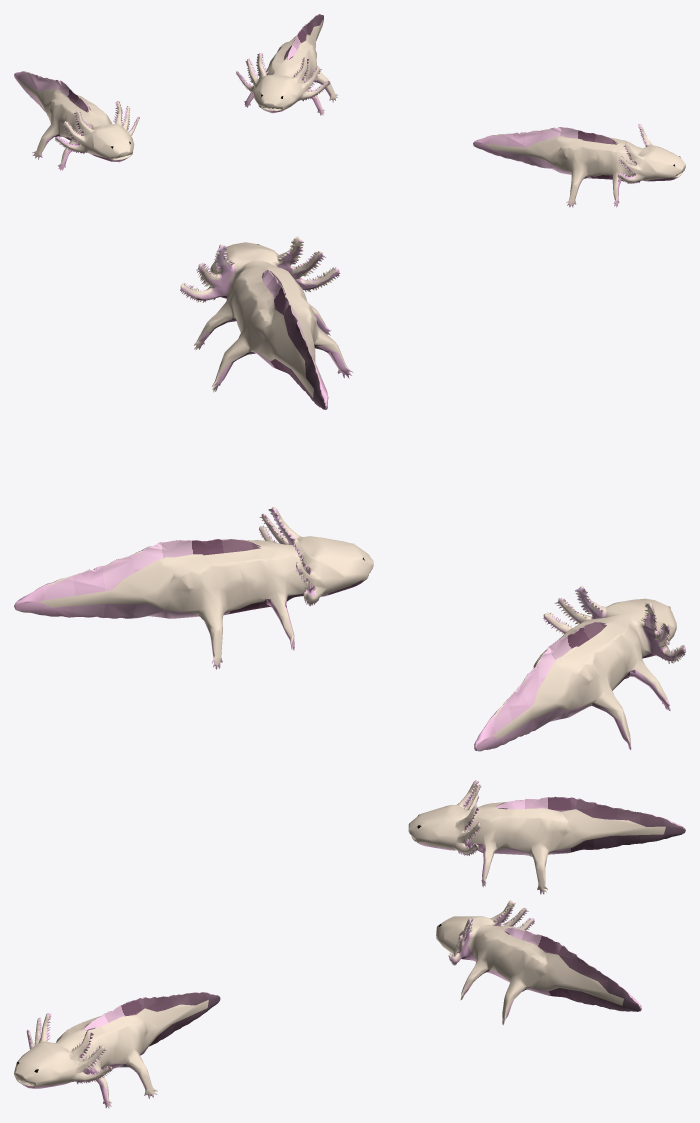
The model's file is ajolotesEstaticos.obj.
3 views of the same model, one above another, from view 1: azimuth 30°, elevation 25°; view 2: azimuth 150°, elevation 25°; view 3: azimuth 270°, elevation 25° (orthographic). The views are drawn at different scales.
Parts seen in each view (by area): view 1: ajolote_Mesh2, ajolote_Mesh, ajolote_Mesh1; view 2: ajolote_Mesh1, ajolote_Mesh, ajolote_Mesh2; view 3: ajolote_Mesh, ajolote_Mesh2, ajolote_Mesh1.
Boxes of the visible parts, box(x1,y1,x2,y2) form: ajolote_Mesh2: box(473, 124, 685, 207); ajolote_Mesh: box(14, 71, 139, 170); ajolote_Mesh1: box(236, 14, 337, 115); ajolote_Mesh1: box(14, 507, 373, 669); ajolote_Mesh: box(474, 586, 685, 751); ajolote_Mesh2: box(180, 236, 352, 409); ajolote_Mesh: box(408, 780, 685, 894); ajolote_Mesh2: box(14, 992, 220, 1108); ajolote_Mesh1: box(436, 900, 641, 1025).
Bounding box in the file's own units: 3.16 × 0.4316 × 3.23.
Materials: 5 (5 with a texture image).
